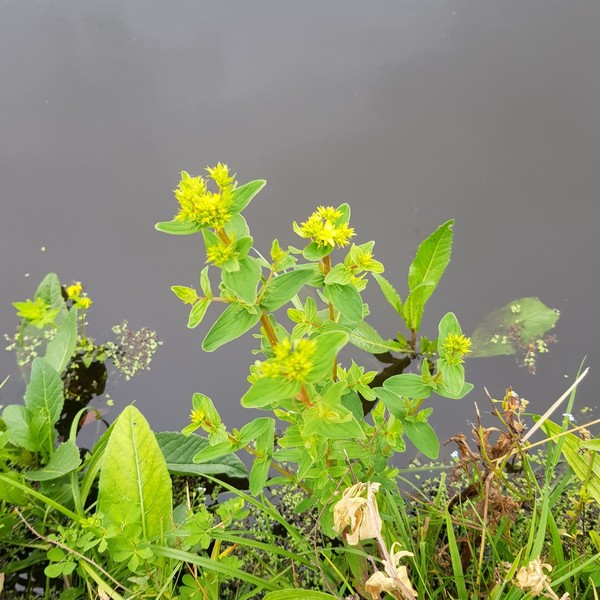obstacle: (157, 129, 518, 566)
